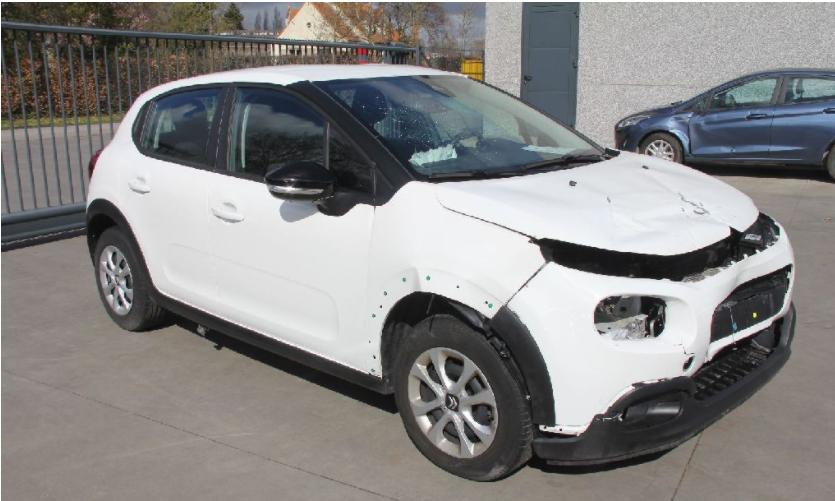Back-door: (103, 84, 230, 310)
Back-wheel: (94, 228, 172, 333)
Back-window: (133, 84, 231, 173)
Fender: (372, 180, 545, 379)
Front-bumper: (490, 214, 796, 480)
Front-door: (199, 83, 390, 376)
Front-wheel: (392, 312, 534, 480)
Front-window: (224, 87, 373, 197)
Grille: (693, 314, 782, 399)
Hood: (435, 146, 758, 257)
Mirror: (266, 161, 364, 215)
Quarter-panel: (86, 125, 132, 211)
Rocker-panel: (152, 288, 389, 395)
Roof: (140, 63, 469, 91)
Tail-light: (88, 149, 103, 183)
Windshield: (310, 75, 616, 182)
